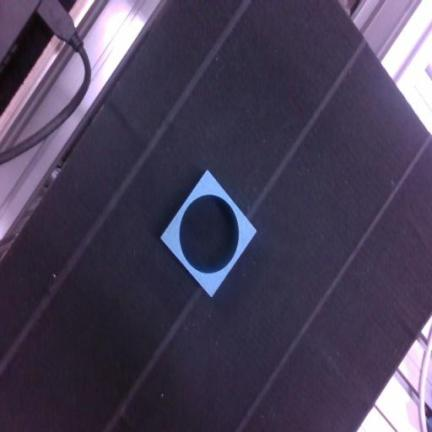hole: (162, 171, 256, 296)
